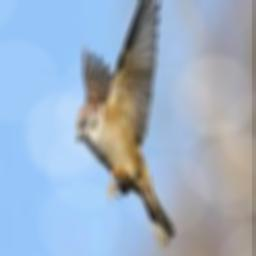Sparrow: (76, 0, 174, 250)
